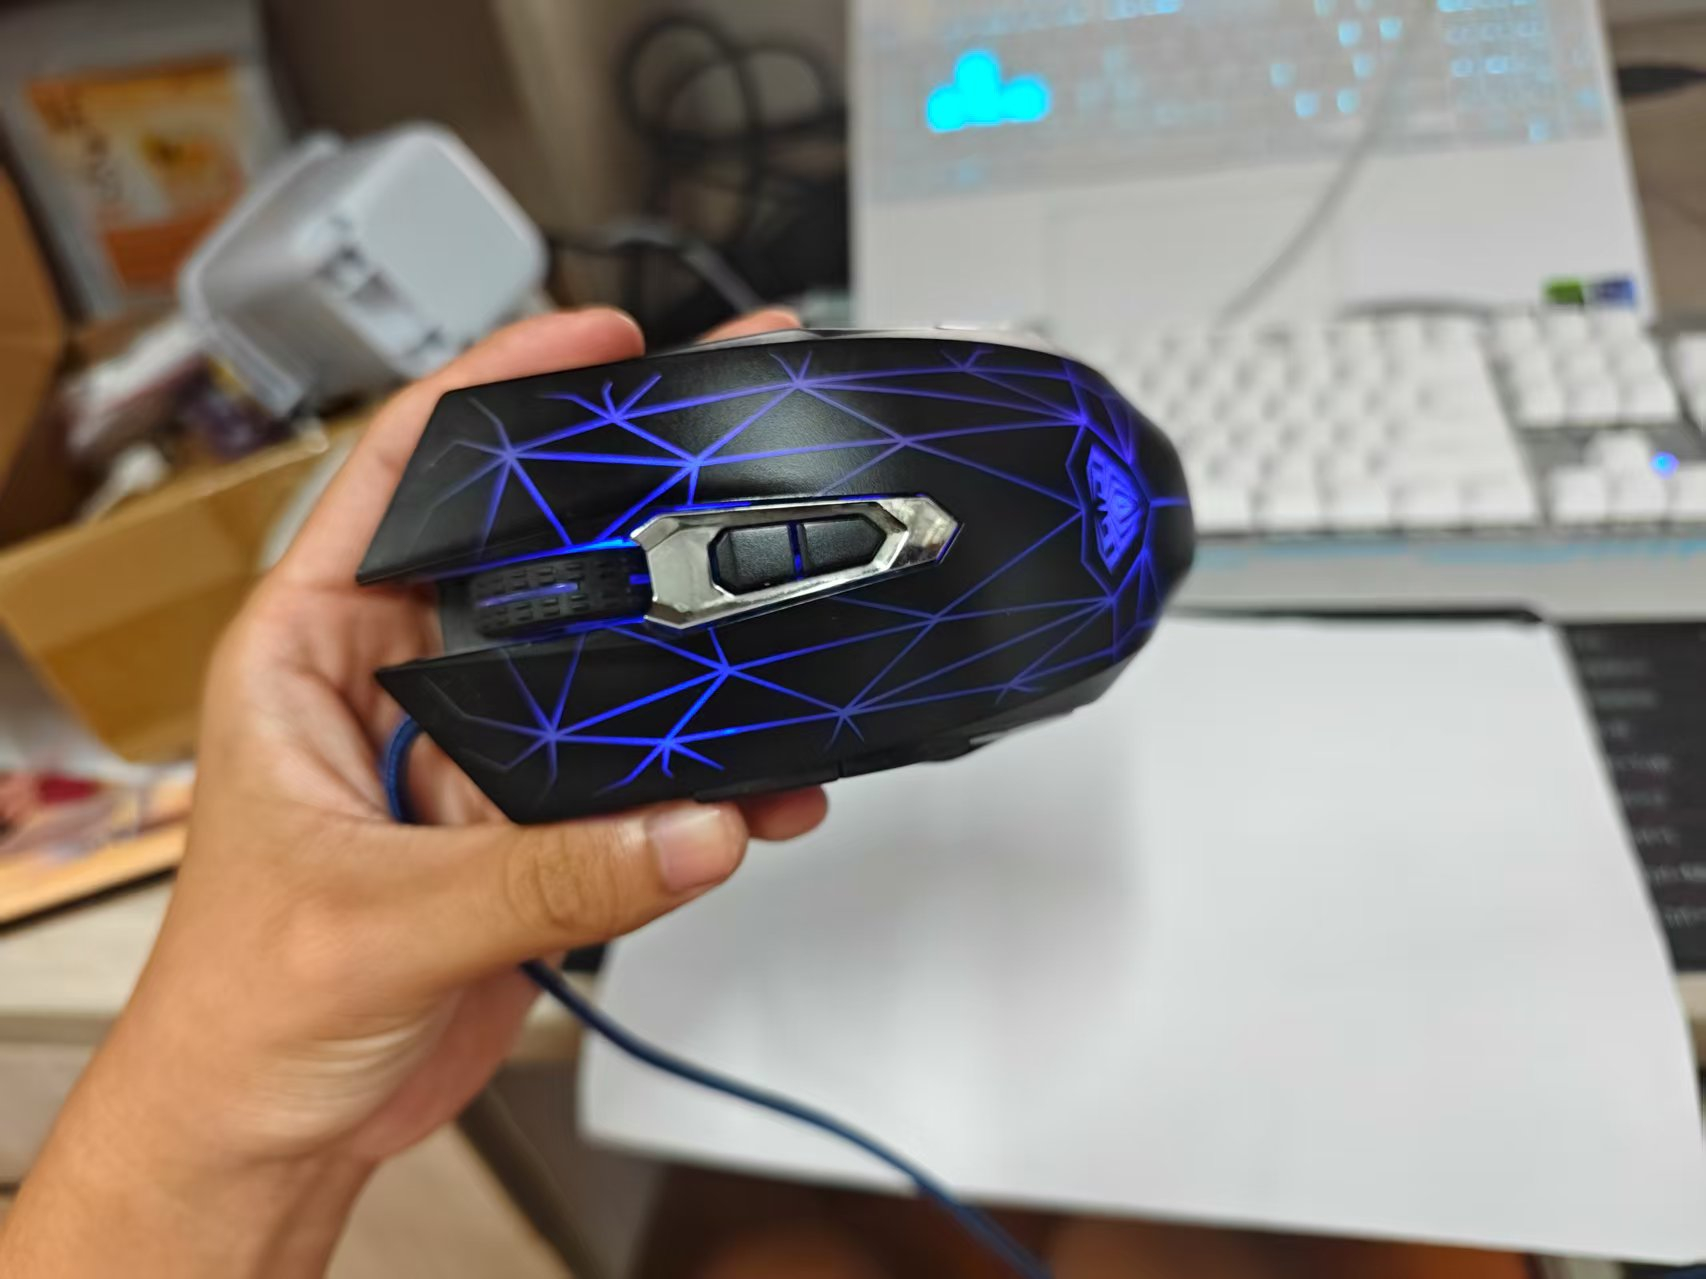mouse: (353, 303, 1220, 802)
